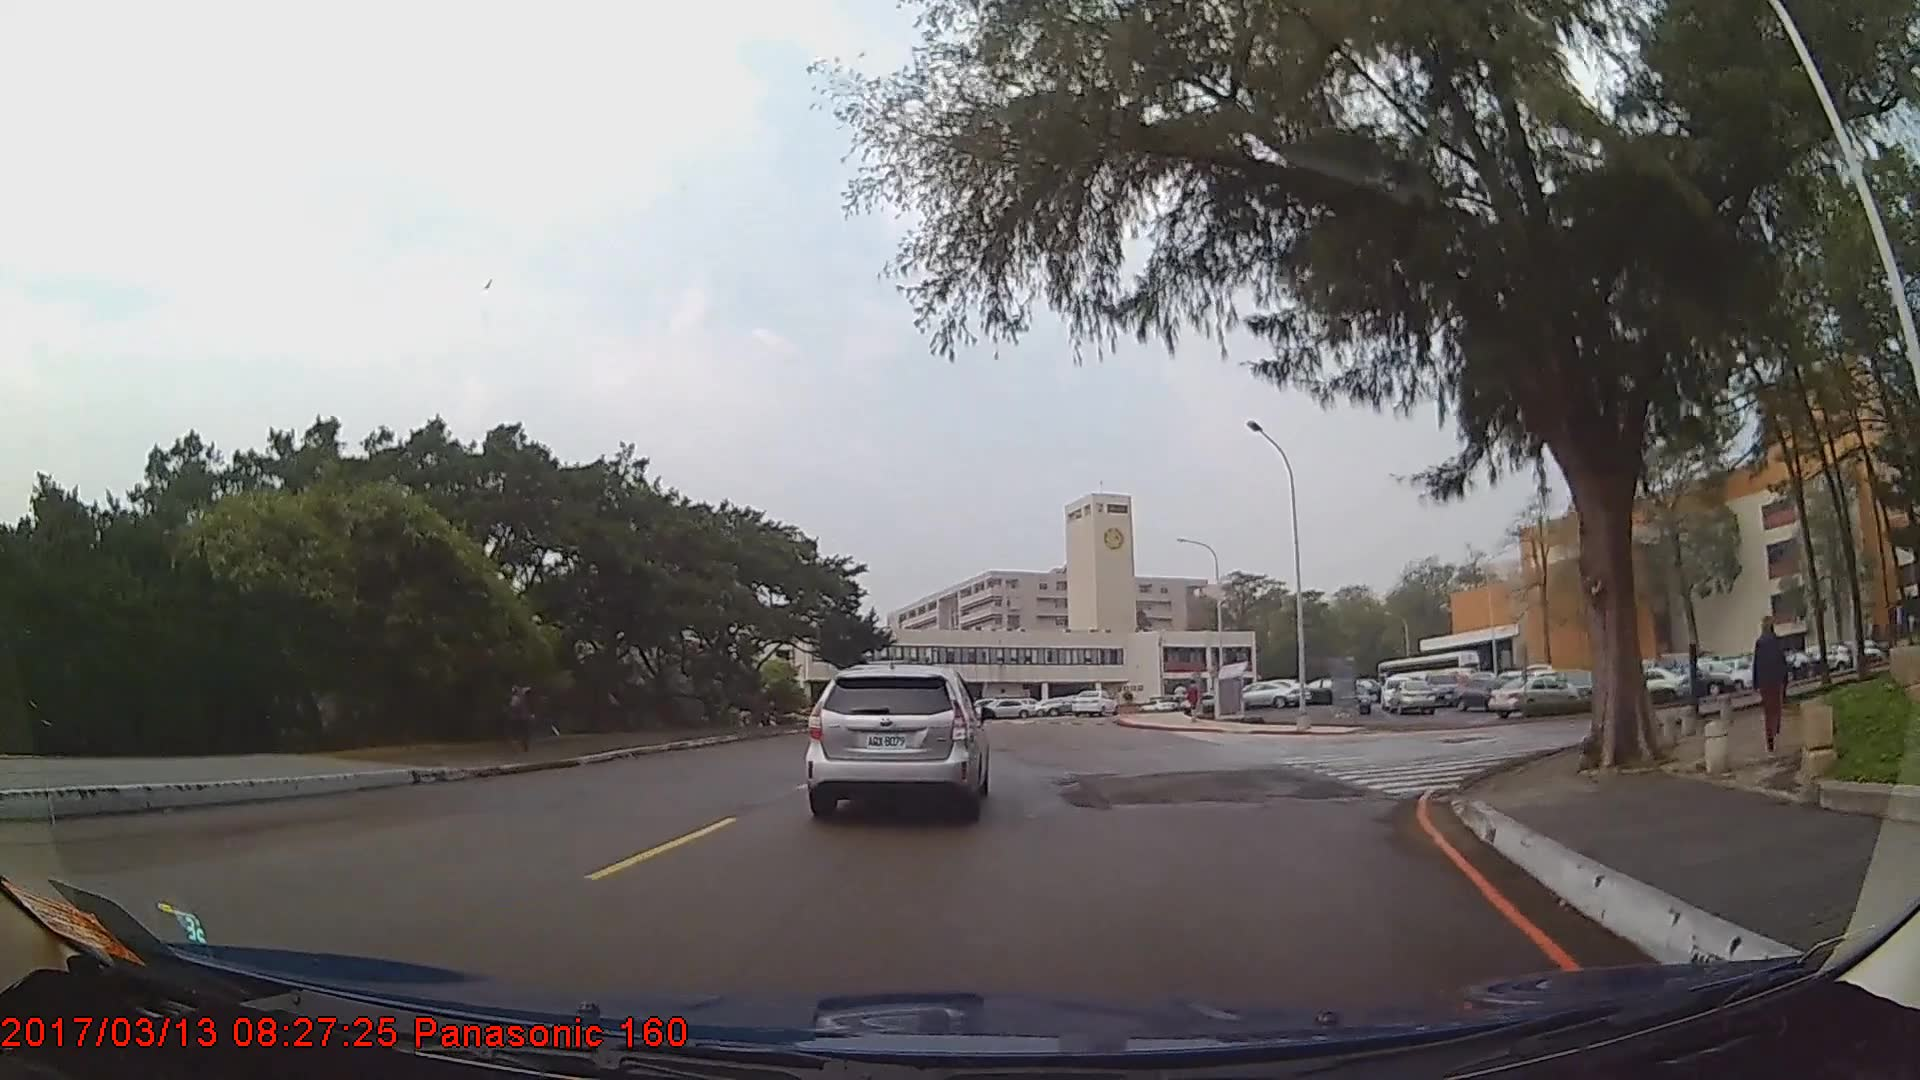pedestrian: (1753, 620, 1798, 754), (498, 670, 537, 752)
vehicle: (807, 662, 988, 820), (1486, 674, 1580, 720), (1601, 665, 1691, 701), (1451, 674, 1525, 713), (1233, 681, 1302, 706), (1389, 678, 1435, 714), (973, 696, 1039, 720), (1422, 670, 1462, 706), (1071, 688, 1117, 718), (1338, 683, 1371, 712)
